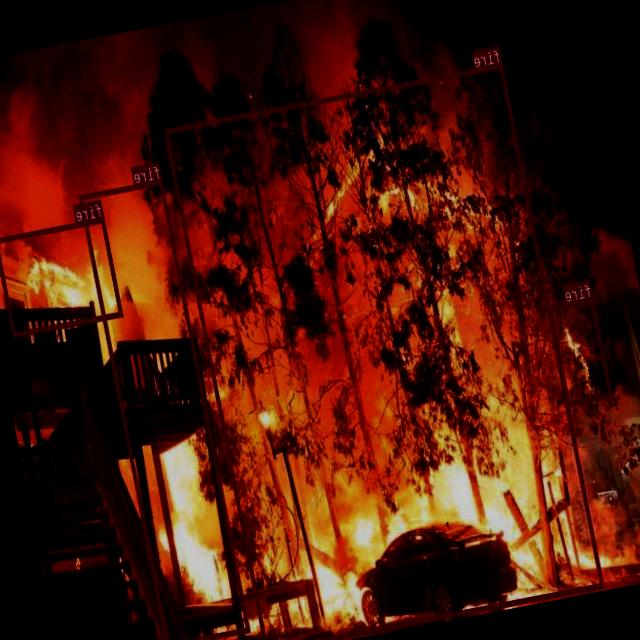fire: (165, 63, 605, 640), (80, 178, 251, 640), (0, 215, 124, 336), (548, 296, 614, 406)
